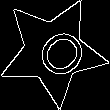O_SW: (19, 18, 86, 85)
